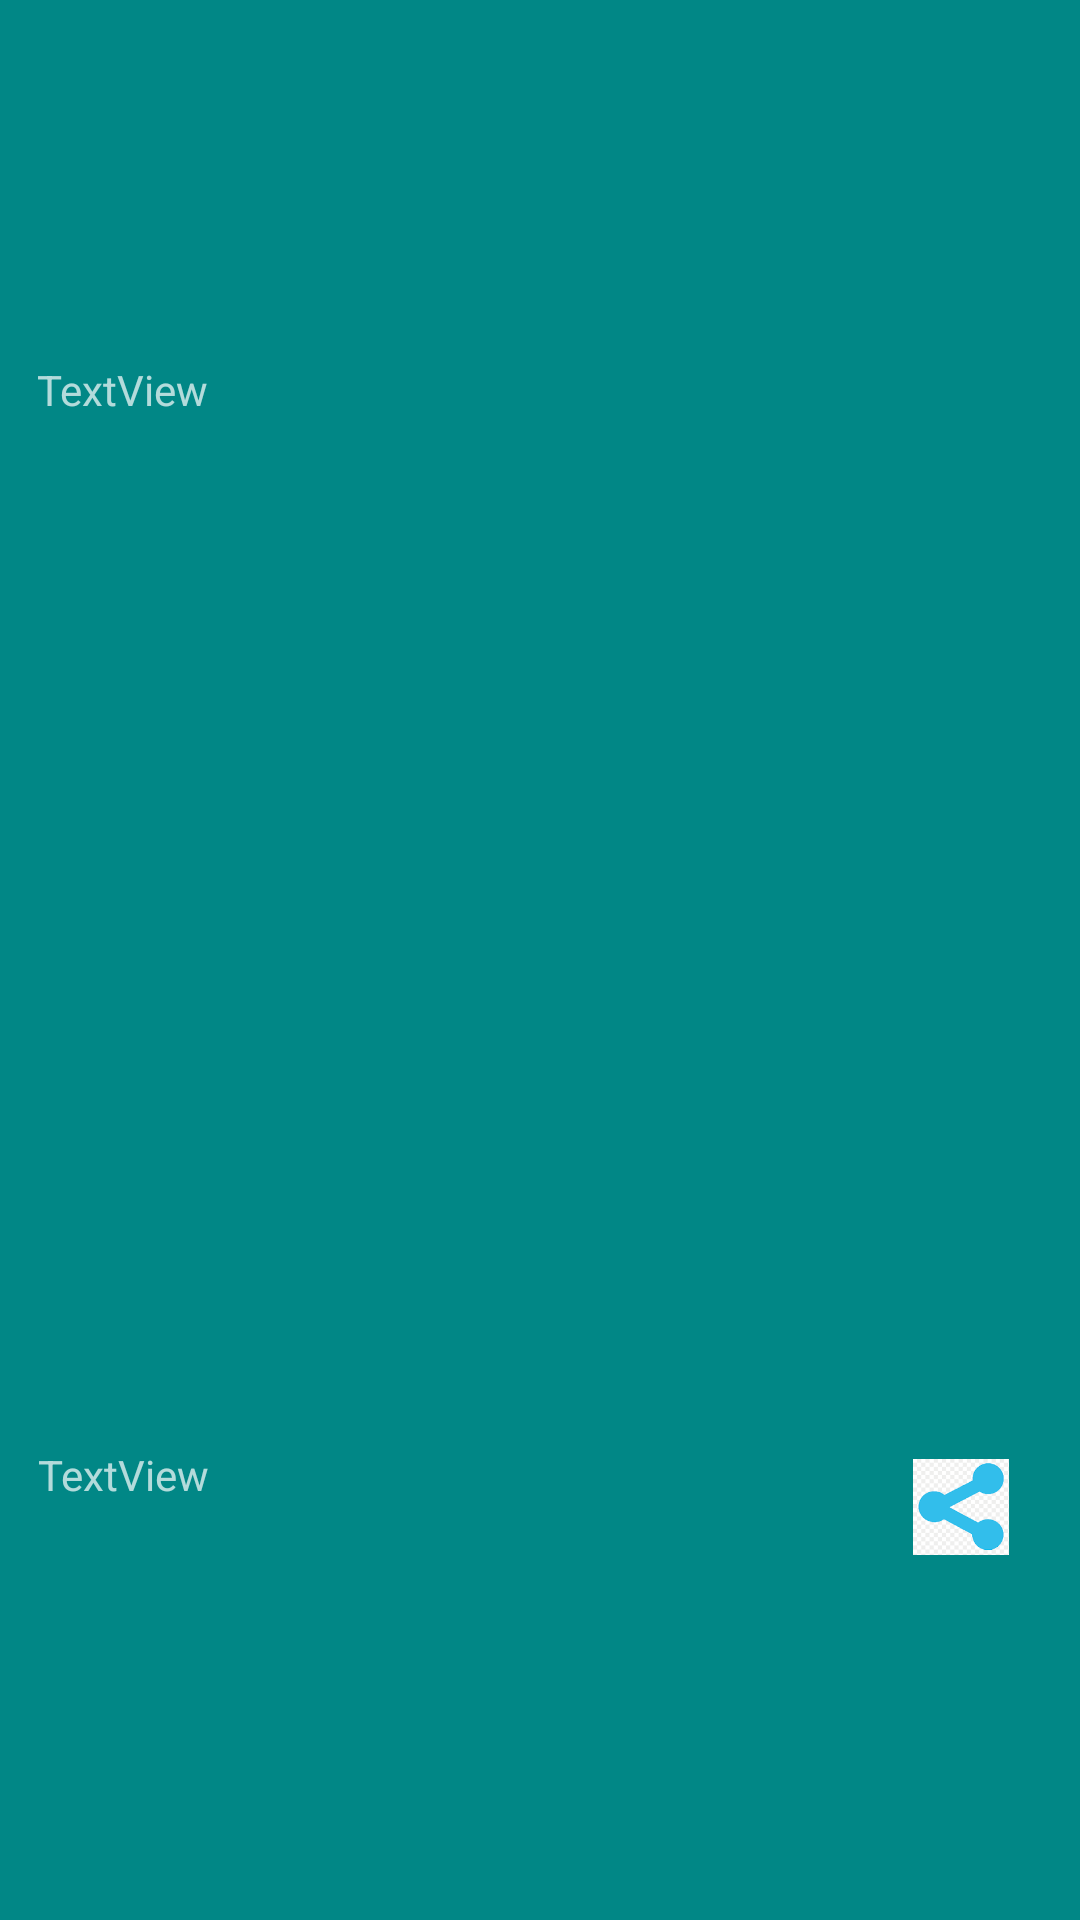

Locate icon controls on the screen. Image size 1080w x 1920h, boxes as box(x1, y1, x2, y2).
share: box(913, 1459, 1009, 1555)
